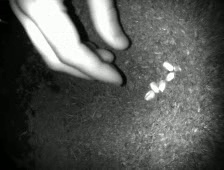corn: (160, 59, 176, 74), (142, 88, 158, 102), (156, 76, 169, 93), (148, 79, 161, 95), (164, 69, 176, 83), (172, 63, 183, 74)
